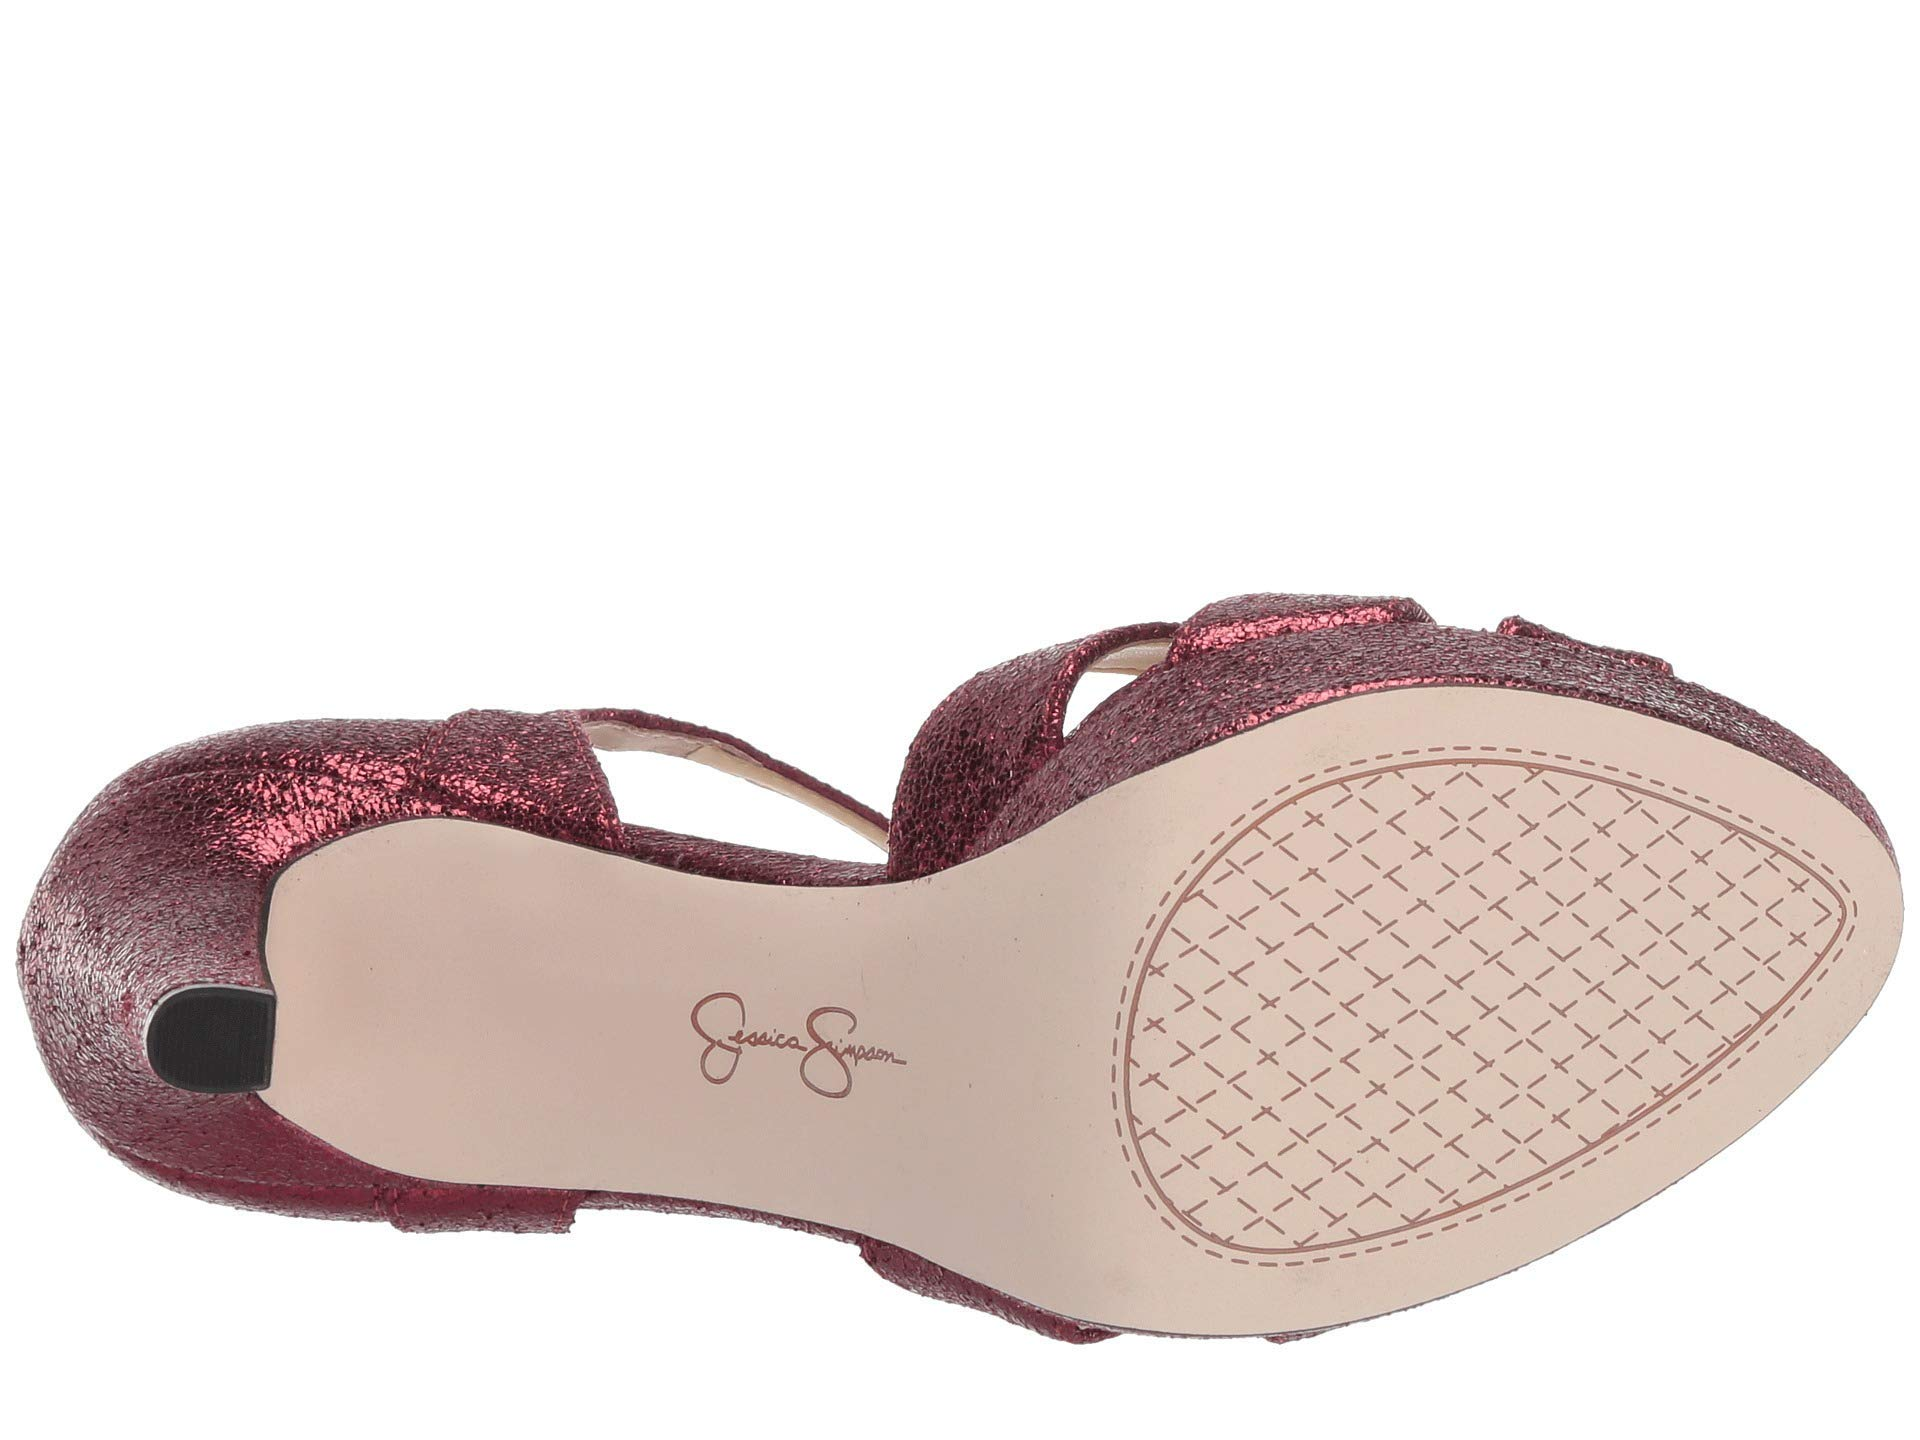quad: (1175, 761, 1571, 1248)
